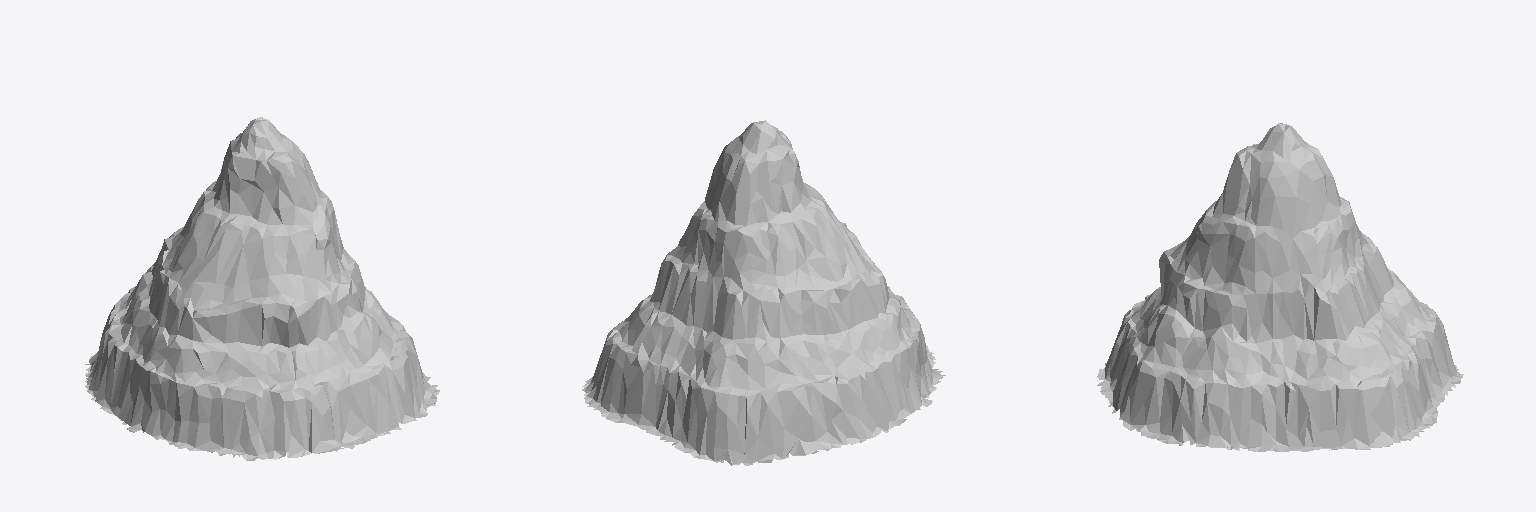
The model's file is Mountain_2_Snow_LOD_High.obj.
3 views of the same model, side by side, from view 1: azimuth 30°, elevation 25°; view 2: azimuth 150°, elevation 25°; view 3: azimuth 270°, elevation 25° (orthographic).
Parts seen in each view (by area): view 1: Mountain_2_Snow_LOD_High_Plane.048; view 2: Mountain_2_Snow_LOD_High_Plane.048; view 3: Mountain_2_Snow_LOD_High_Plane.048.
Part boxes in pixels (x1,y1,x2,y2): Mountain_2_Snow_LOD_High_Plane.048: (85, 117, 439, 460); Mountain_2_Snow_LOD_High_Plane.048: (582, 120, 945, 465); Mountain_2_Snow_LOD_High_Plane.048: (1097, 123, 1463, 451).
Bounding box in the file's own units: 118 × 105 × 131.